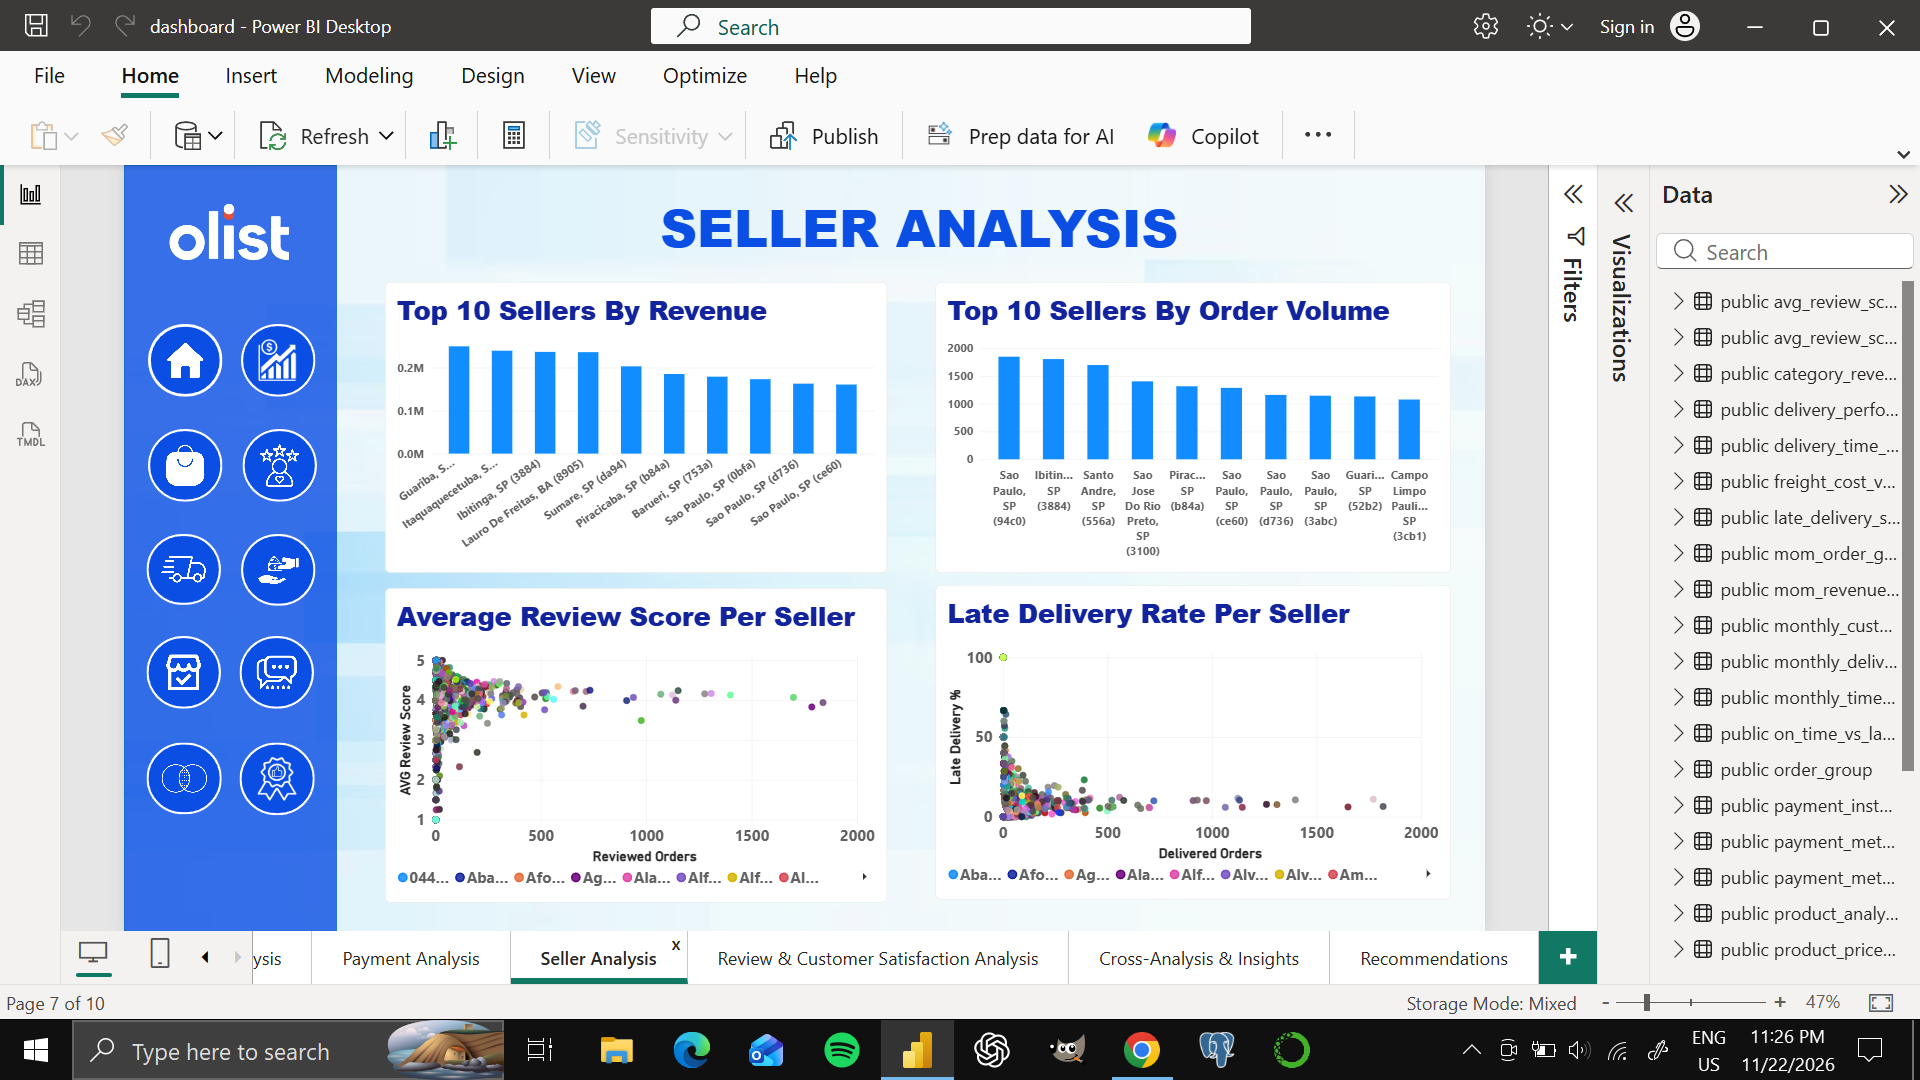

What the dashboard file says about the page in this screenshot:
{"tool":"powerbi","page":{"name":"Seller Analysis","canvas":[1920,1080],"ordinal":6},"visuals":[{"type":"shape","box":[0,0,300.1,1080.8],"z":0},{"type":"image","box":[25.8,53.9,246.2,93.8],"z":1000},{"type":"actionButton","box":[33.8,223.8,105,102.5],"z":2000},{"type":"actionButton","box":[165,223.8,105,102.5],"z":3000},{"type":"actionButton","box":[33.8,371.2,105,102.5],"z":4000},{"type":"actionButton","box":[166.2,371.2,105,102.5],"z":5000},{"type":"actionButton","box":[32.5,520,105,100],"z":6000},{"type":"actionButton","box":[165,520,105,101.2],"z":7000},{"type":"actionButton","box":[31.2,665,105,102.5],"z":8000},{"type":"actionButton","box":[163.8,665,105,102.5],"z":9000},{"type":"actionButton","box":[31.2,815,106.2,101.2],"z":10000},{"type":"textbox","box":[424.4,35.2,1392.6,112.5],"z":11000},{"type":"clusteredColumnChart","title":"Top 10 Sellers By Revenue","fields":{"Category":["public top10_sellers_by_revenue.seller_label"],"Y":["Sum(public top10_sellers_by_revenue.total_revenue)"]},"box":[368.1,164.1,708,410.3],"z":12000},{"type":"clusteredColumnChart","title":"Top 10 Sellers By Order Volume","fields":{"Category":["public top10_sellers_by_orders.seller_label"],"Y":["Sum(public top10_sellers_by_orders.total_orders)"]},"box":[1144.1,164.1,726.8,410.3],"z":13000},{"type":"scatterChart","title":"Average Review Score Per Seller","fields":{"Series":["public avg_review_score_per_seller.seller_label"],"X":["Sum(public avg_review_score_per_seller.reviewed_orders)"],"Y":["public avg_review_score_per_seller.avg_review_score"]},"box":[368.1,595.5,708,443.1],"z":14000},{"type":"scatterChart","title":"Late Delivery Rate Per Seller","fields":{"Series":["public late_delivery_sellers.seller_label"],"X":["Sum(public late_delivery_sellers.delivered_orders)"],"Y":["Sum(public late_delivery_sellers.late_delivery_rate_pct)"]},"box":[1144.1,593.2,726.8,443.1],"z":15000},{"type":"actionButton","box":[163.8,815,106.2,102.5],"z":16000}]}

Visuals, with their boxes on the page's 1920x1080 design canvas (x1, y1, x2, y2). These are canvas units, not pixel positions in the 1920x1080 screenshot, which may show the page scaled, cropped or inside an application window:
shape: BBox(0, 0, 300, 1081)
image: BBox(26, 54, 272, 148)
actionButton: BBox(34, 224, 139, 326)
actionButton: BBox(165, 224, 270, 326)
actionButton: BBox(34, 371, 139, 474)
actionButton: BBox(166, 371, 271, 474)
actionButton: BBox(32, 520, 138, 620)
actionButton: BBox(165, 520, 270, 621)
actionButton: BBox(31, 665, 136, 768)
actionButton: BBox(164, 665, 269, 768)
actionButton: BBox(31, 815, 137, 916)
textbox: BBox(424, 35, 1817, 148)
"Top 10 Sellers By Revenue" clusteredColumnChart: BBox(368, 164, 1076, 574)
"Top 10 Sellers By Order Volume" clusteredColumnChart: BBox(1144, 164, 1871, 574)
"Average Review Score Per Seller" scatterChart: BBox(368, 596, 1076, 1039)
"Late Delivery Rate Per Seller" scatterChart: BBox(1144, 593, 1871, 1036)
actionButton: BBox(164, 815, 270, 918)
